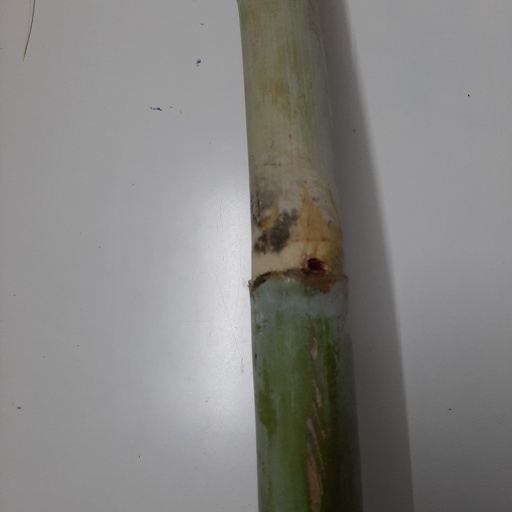Damage_Bud: (303, 255, 329, 272)
